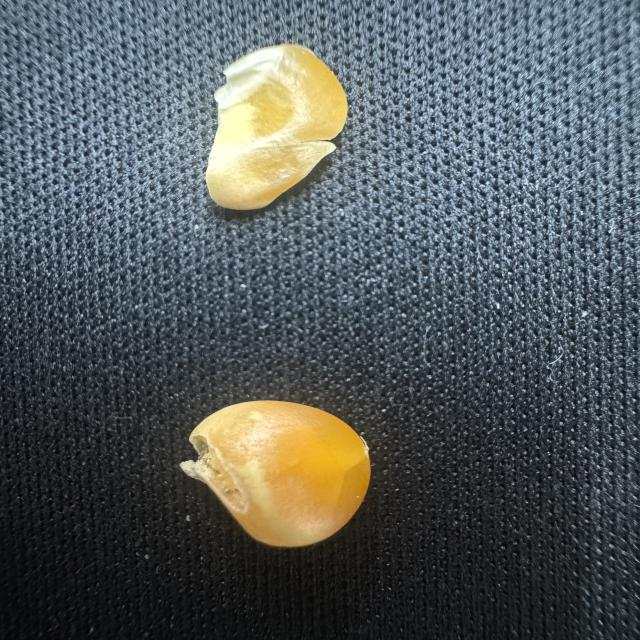Bad-Seed: (175, 395, 382, 552), (198, 40, 354, 216)
